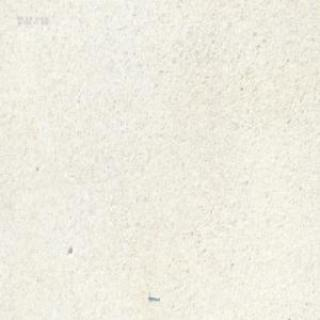Nailtrack_idkeyframe: (147, 291, 159, 300)
